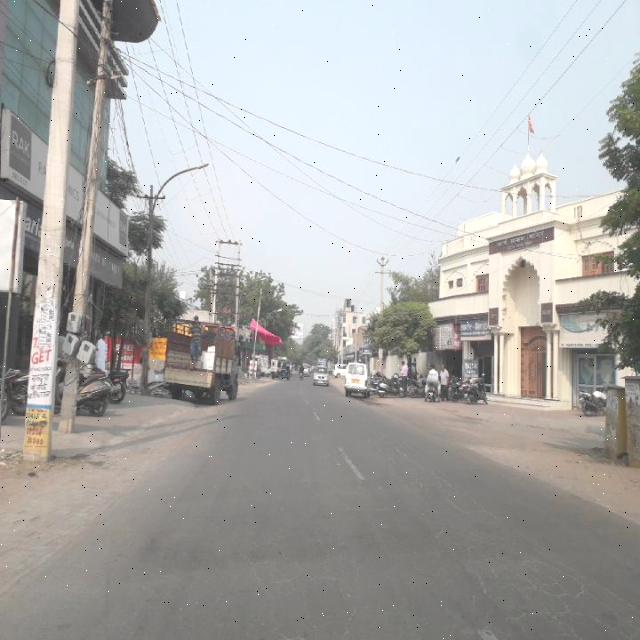D20: (413, 468, 628, 636)
